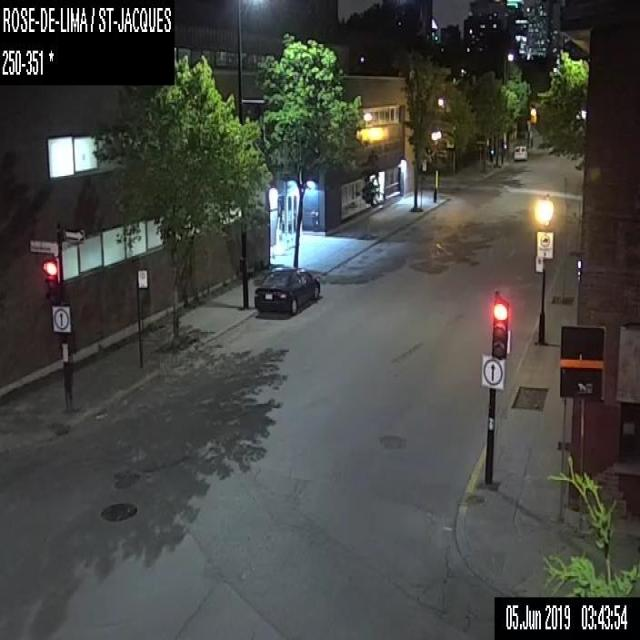vehicle: (253, 262, 320, 314), (513, 141, 527, 160)
